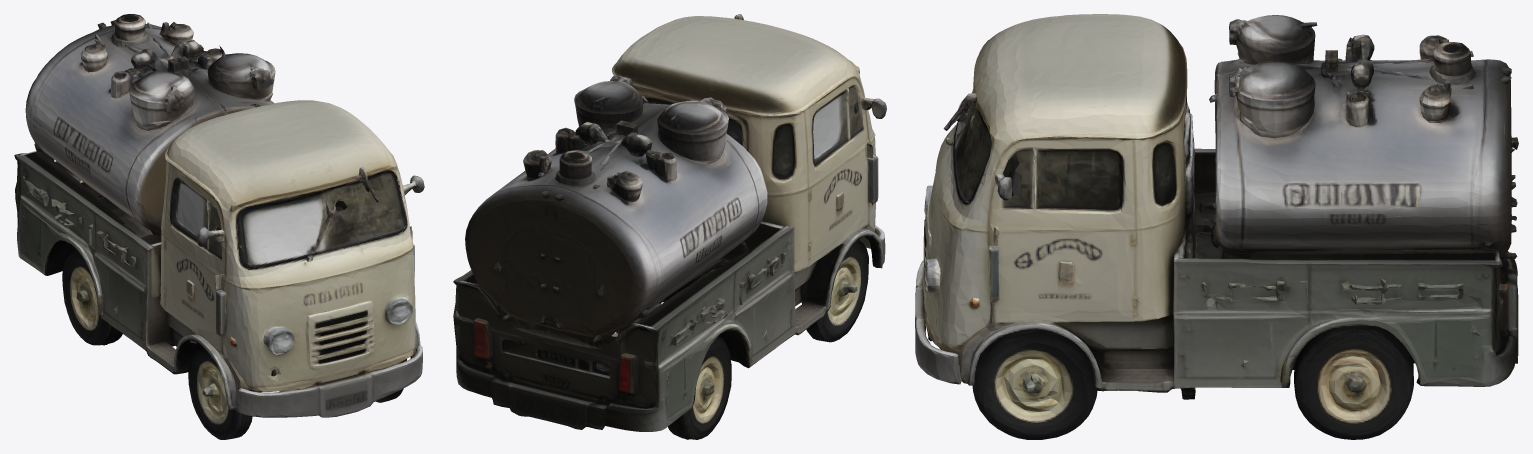
3 renders of one model, left to right at view 1: azimuth 30°, elevation 25°; view 2: azimuth 150°, elevation 25°; view 3: azimuth 270°, elevation 25°, orthographic. The views are drawn at different scales.
Parts seen in each view (by area): view 1: world; view 2: world; view 3: world.
Boxes of the visible parts, x1,y1,x2,y2 form: world: (14, 14, 424, 439); world: (453, 14, 886, 439); world: (915, 14, 1518, 439).
Size of the model in its own units: 0.5383 by 0.634 by 1.
Materials: 1 (1 with a texture image).
